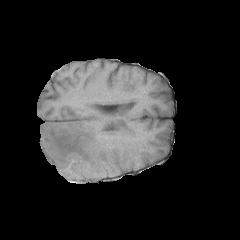glioma: (40, 123, 119, 177)
